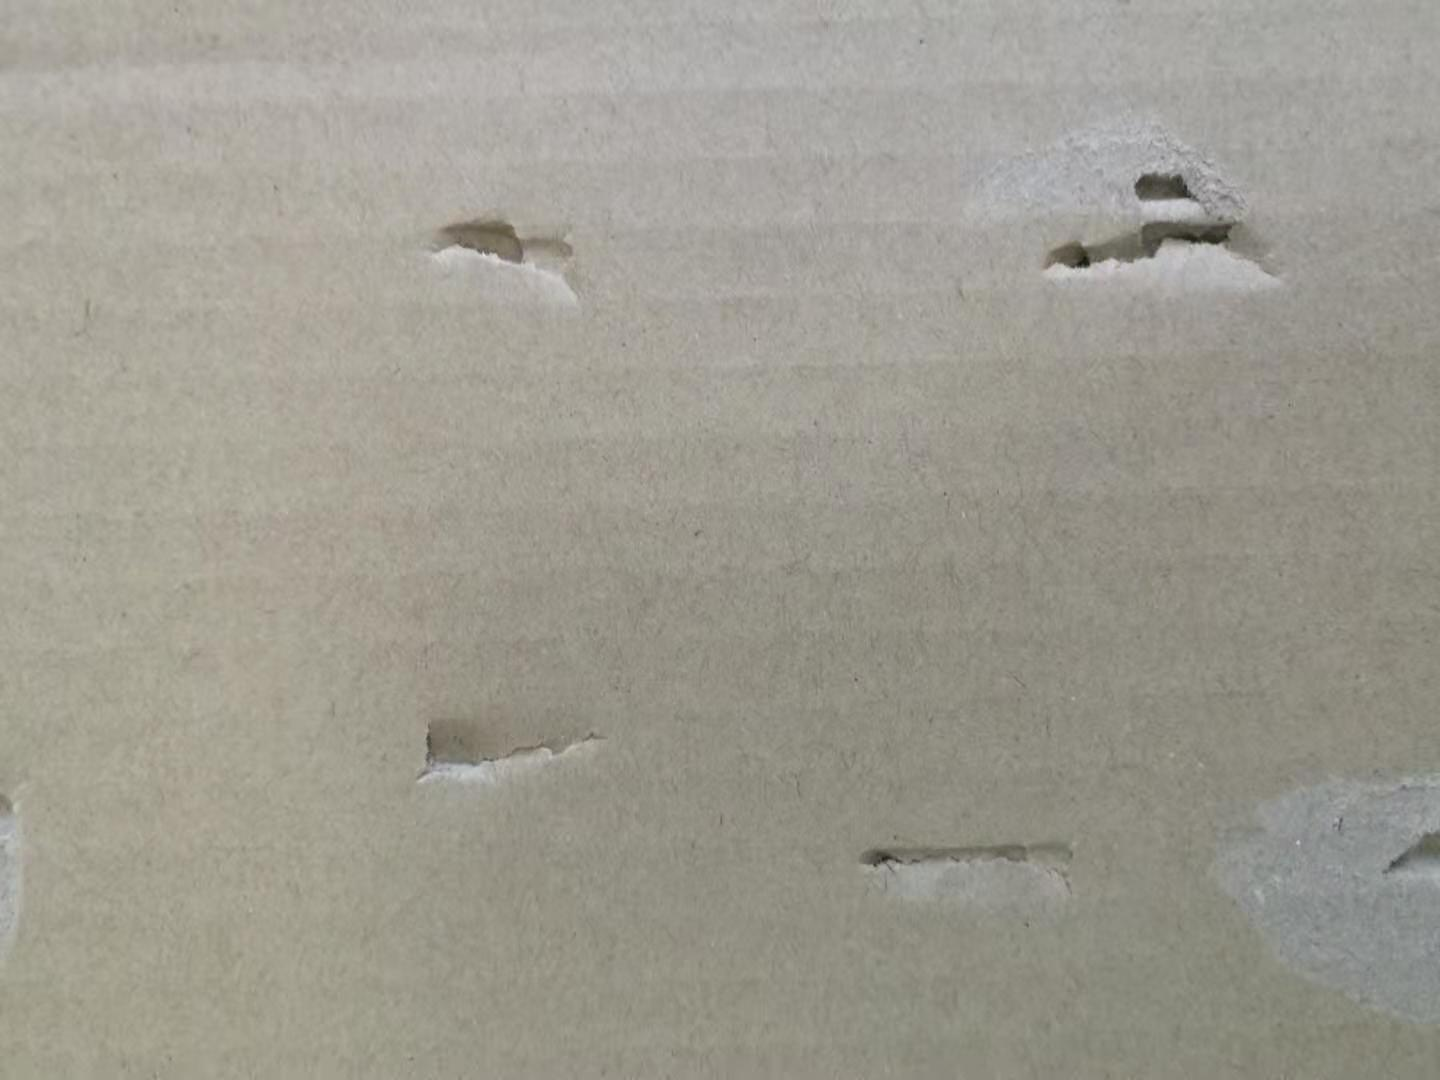defect: (937, 88, 1308, 317), (1187, 741, 1440, 1052), (388, 682, 647, 805), (835, 815, 1117, 927), (397, 187, 609, 323), (1, 775, 49, 980)
